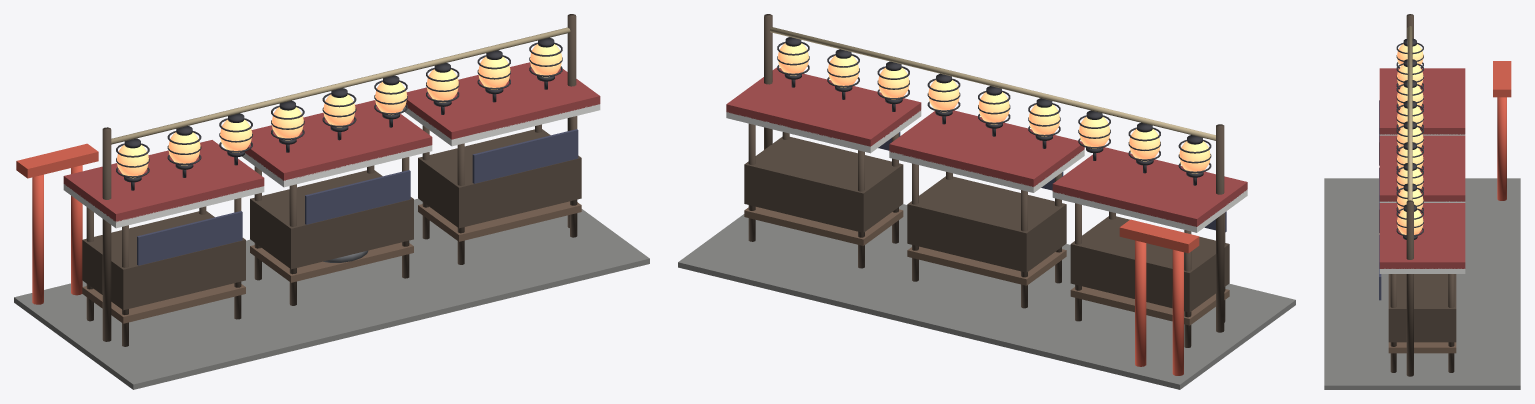
Rendered from prop_engai_yokocho.glb.
The picture shows the model from 3 angles, left to right: view 1: azimuth 30°, elevation 25°; view 2: azimuth 150°, elevation 25°; view 3: azimuth 270°, elevation 25°; orthographic projection. The views are drawn at different scales.
Visible parts, largest first — view 1: engai_yokocho; view 2: engai_yokocho; view 3: engai_yokocho.
Part boxes in pixels (<box>): engai_yokocho: <box>14,14,649,389</box>; engai_yokocho: <box>678,14,1295,389</box>; engai_yokocho: <box>1324,14,1520,389</box>.
Bounding box in the file's own units: 8.05 × 3.2 × 3.2.
